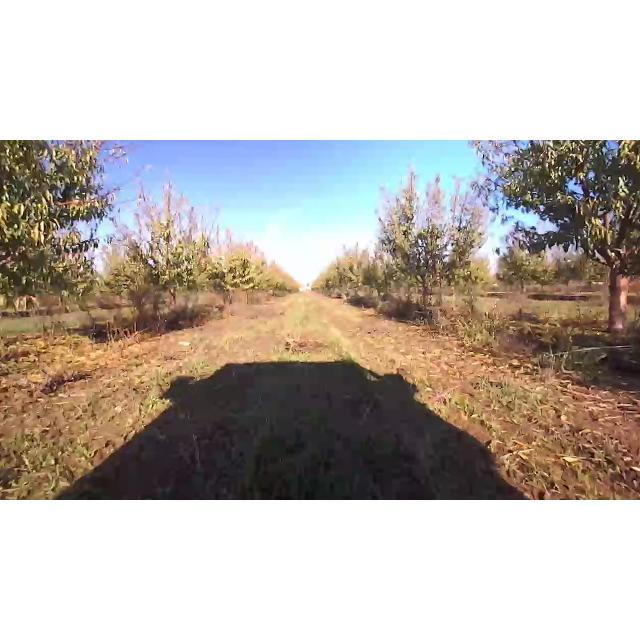direk: (462, 140, 640, 338), (0, 140, 130, 300), (370, 161, 486, 327), (115, 173, 203, 334), (172, 227, 260, 315)
